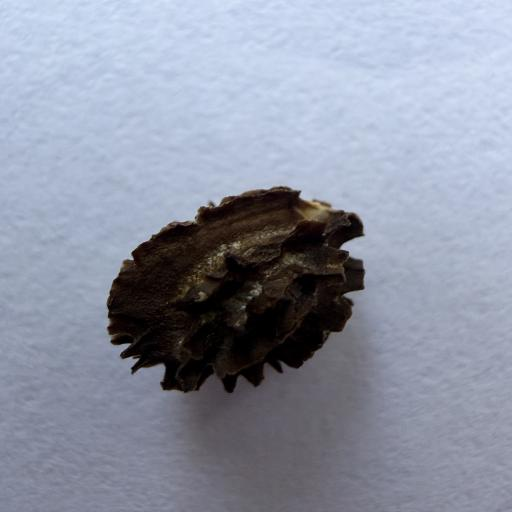papaya_seed: (96, 167, 396, 399)
